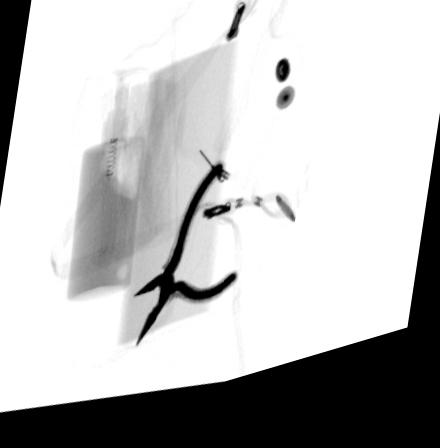Pliers: (131, 170, 239, 354)
